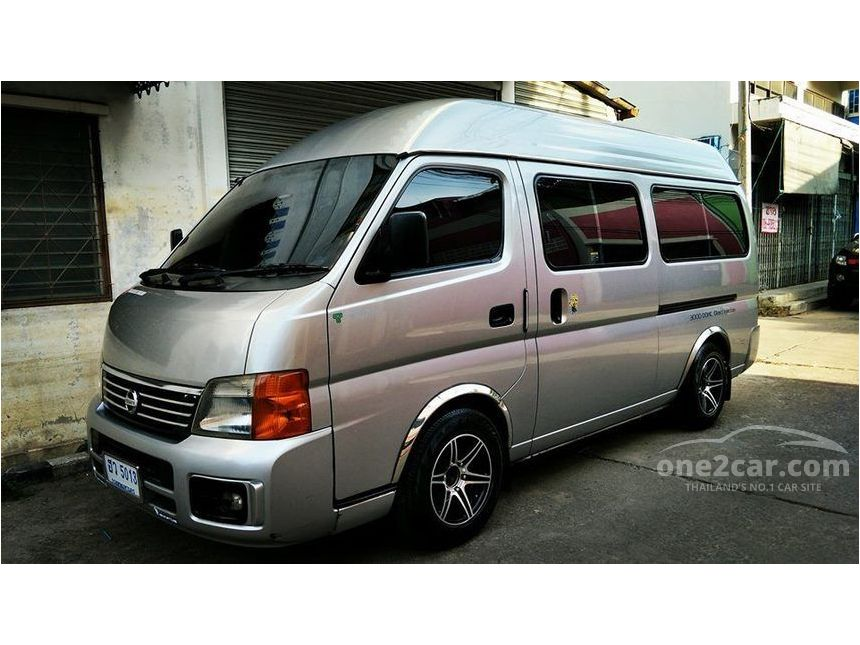van: (85, 97, 760, 547)
